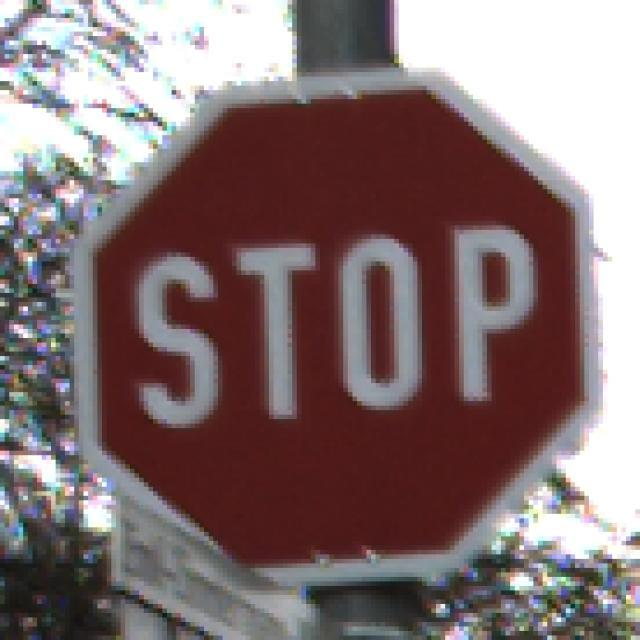stop: (71, 75, 595, 592)
